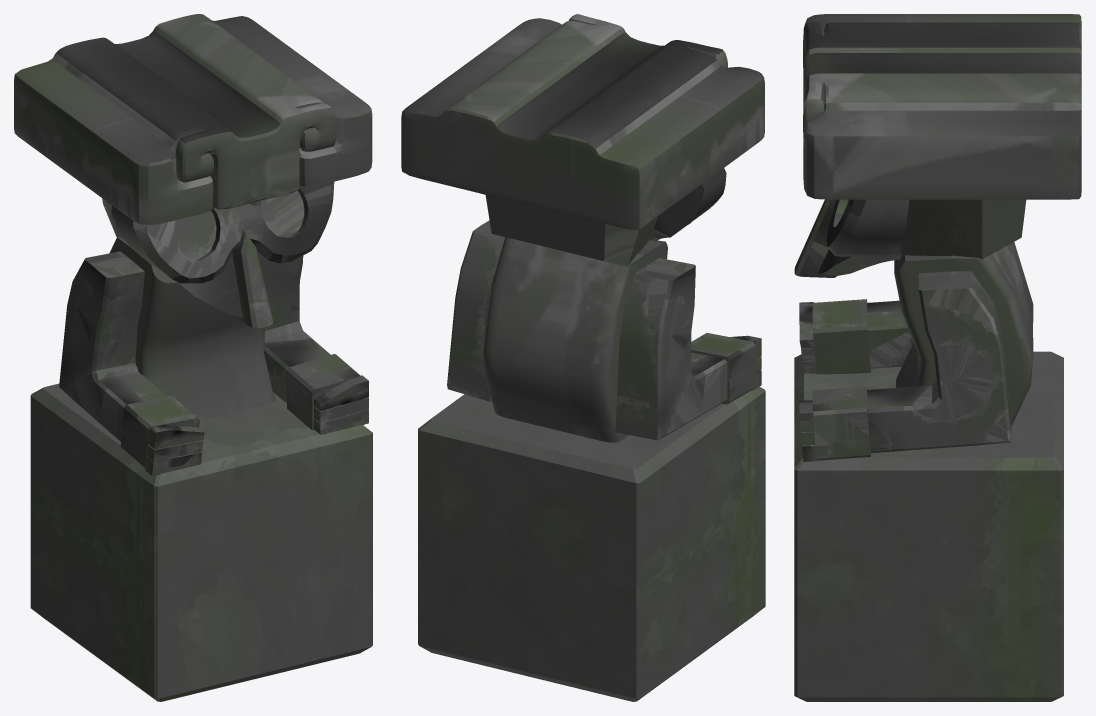
Rendered from weird_creature_pedestal__creature.fbx.
3 views of the same model, side by side, from view 1: azimuth 30°, elevation 25°; view 2: azimuth 150°, elevation 25°; view 3: azimuth 270°, elevation 25° (orthographic). The views are drawn at different scales.
Visible parts, largest first — view 1: Cube.008, Cube.002, Cube, Cube.003, Cube.001, Cube.010, Cube.011, Cube.009; view 2: Cube.008, Cube.002, Cube.001, Cube.003, Cube.010, Cube; view 3: Cube.008, Cube.002, Cube.010, Cube.001, Cube, Cube.003, Cube.009, Cube.011.
Part boxes in pixels (x1,y1,x2,y2): Cube.008: (30,383,372,701); Cube.002: (14,14,372,225); Cube: (111,182,334,328); Cube.003: (59,251,199,468); Cube.001: (102,198,274,421); Cube.010: (263,255,360,430); Cube.011: (314,375,368,434); Cube.009: (145,425,204,475); Cube.008: (418,387,765,701); Cube.002: (401,14,764,229); Cube.001: (483,195,667,442); Cube.003: (615,258,755,440); Cube.010: (447,220,505,401); Cube: (651,168,726,240); Cube.008: (794,351,1063,701); Cube.002: (803,14,1081,199); Cube.010: (812,271,1011,460); Cube.001: (894,199,1033,425); Cube: (794,199,909,277); Cube.003: (812,299,913,374); Cube.009: (799,302,816,373); Cube.011: (799,400,817,461).
Size of the model in its own units: 104 by 233 by 103.
Materials: 2 (2 with a texture image).
